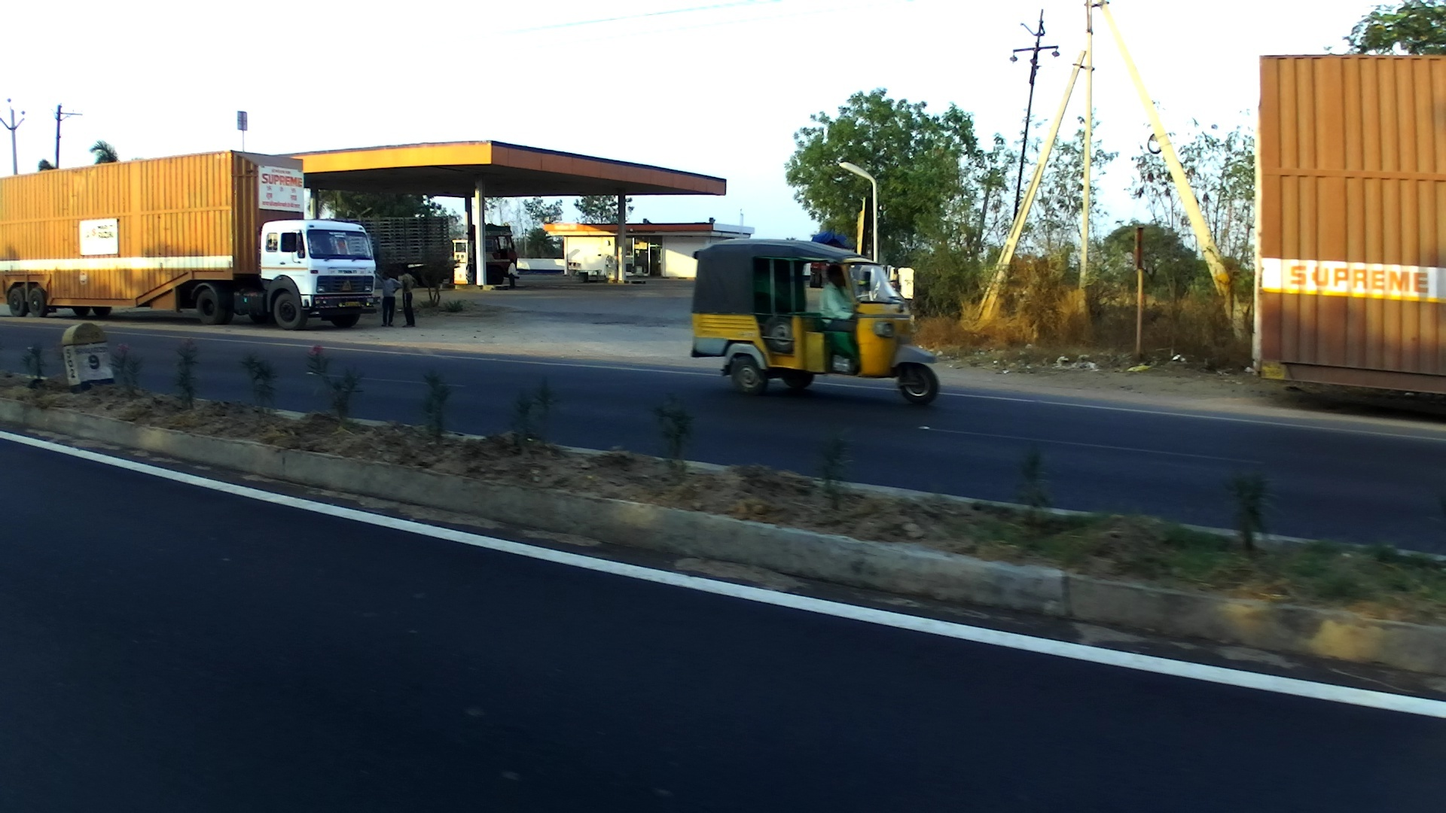car: (688, 240, 941, 403)
person: (393, 262, 417, 332), (375, 270, 397, 330), (506, 255, 520, 285)
truck: (1, 151, 379, 333), (351, 215, 516, 287)
vehicle fallback: (1247, 50, 1444, 386)
